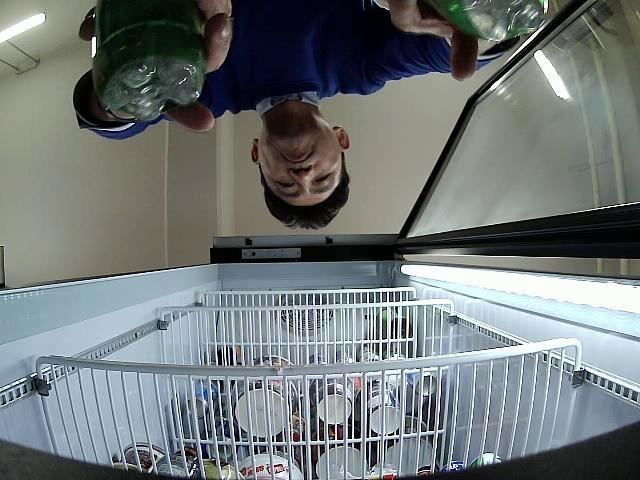18_trevi: (93, 0, 205, 123), (427, 1, 549, 40)
